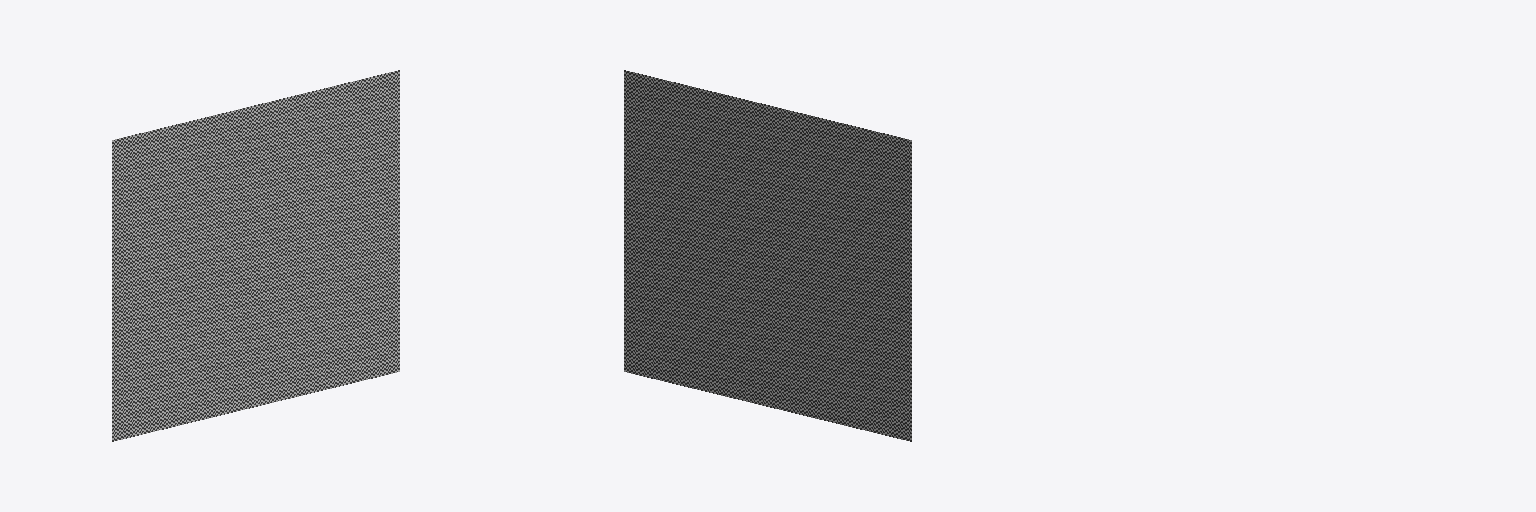
The picture shows the model from 3 angles: view 1: azimuth 30°, elevation 25°; view 2: azimuth 150°, elevation 25°; view 3: azimuth 270°, elevation 25°; orthographic projection.
Bounding box in the file's own units: 100 × 100 × 0.
Materials: 1 (1 with a texture image).